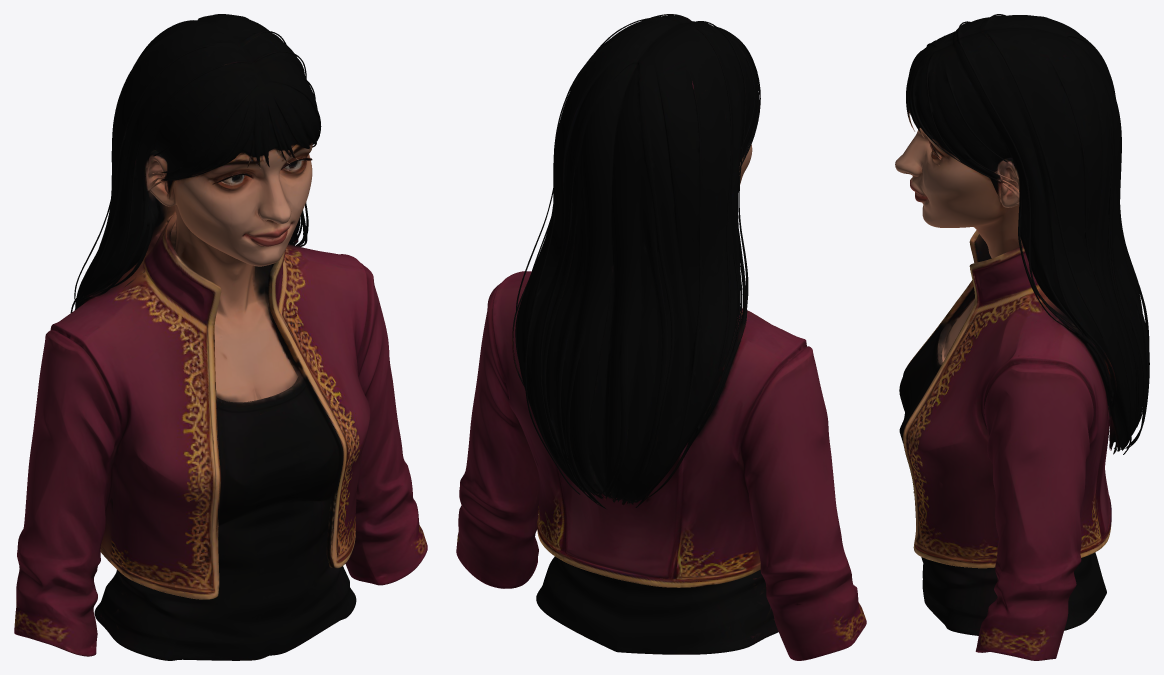
The model's file is fatima.glb.
3 renders of one model, left to right at view 1: azimuth 30°, elevation 25°; view 2: azimuth 150°, elevation 25°; view 3: azimuth 270°, elevation 25°, orthographic. The views are drawn at different scales.
Parts seen in each view (by area): view 1: material; view 2: material; view 3: material.
Boxes of the visible parts, left/top/right/bottom form: material: left=14, top=14, right=427, bottom=660; material: left=456, top=14, right=866, bottom=660; material: left=895, top=14, right=1149, bottom=660.
Size of the model in its own units: 0.7385 by 1.05 by 0.4257.
Materials: 1 (1 with a texture image).
